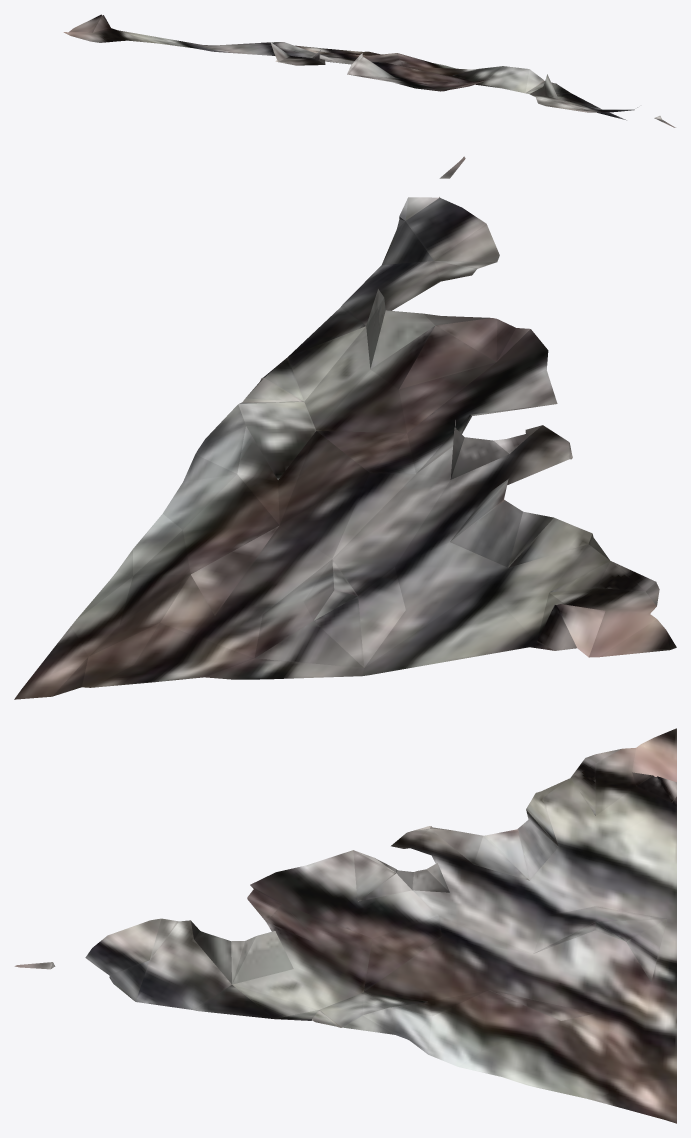
The picture shows the model from 3 angles, top to bottom: view 1: azimuth 30°, elevation 25°; view 2: azimuth 150°, elevation 25°; view 3: azimuth 270°, elevation 25°; orthographic projection. The views are drawn at different scales.
Size of the model in its own units: 1.05 by 0.3228 by 1.23.
1 material, 1 textured.
